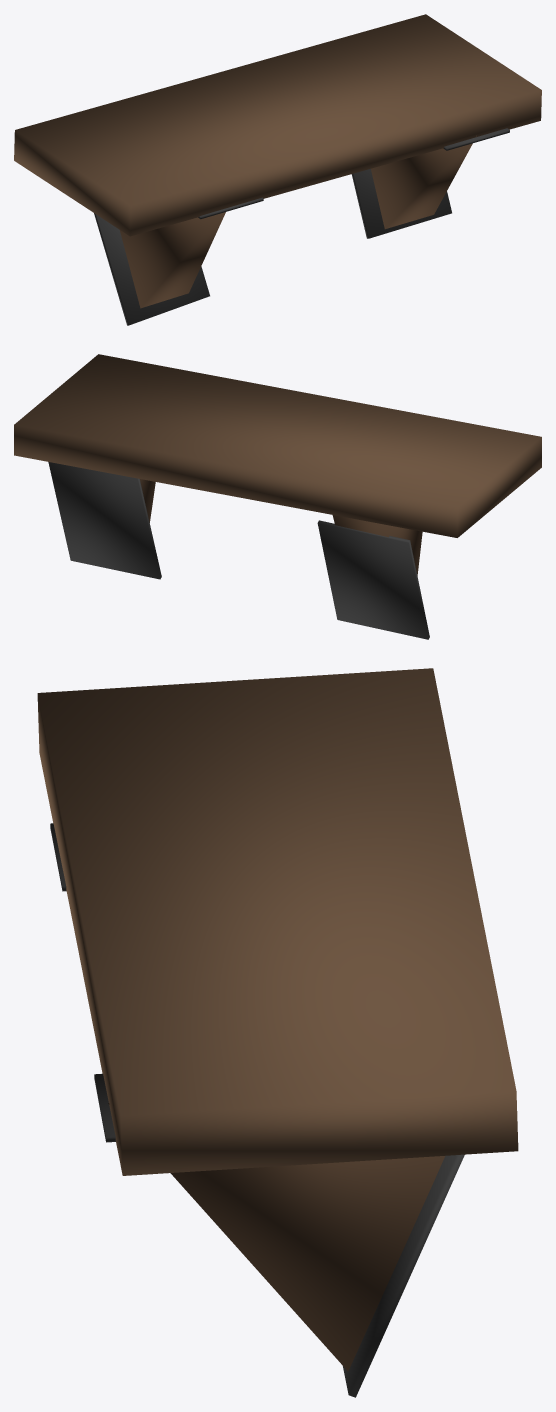
File: myAsset_tilted_shelfxyz.fbx
3 renders of one model, top to bottom at view 1: azimuth 30°, elevation 25°; view 2: azimuth 150°, elevation 25°; view 3: azimuth 270°, elevation 25°, orthographic. The views are drawn at different scales.
Parts seen in each view (by area): view 1: p.0002, p.0006, p.0007, p.0009, p.0011; view 2: p.0002, p.0009, p.0011, p.0006, p.0007; view 3: p.0002, p.0007, p.0011.
Boxes of the visible parts, box(x1,y1,x2,y2) form: p.0002: box(14, 14, 541, 236); p.0006: box(120, 212, 225, 308); p.0007: box(371, 135, 476, 229); p.0009: box(94, 213, 209, 325); p.0011: box(351, 169, 451, 238); p.0002: box(14, 354, 541, 537); p.0009: box(317, 520, 429, 639); p.0011: box(48, 462, 161, 579); p.0006: box(332, 515, 422, 575); p.0007: box(140, 479, 155, 522); p.0002: box(37, 668, 518, 1175); p.0007: box(108, 1103, 444, 1371); p.0011: box(343, 1154, 464, 1397).
Size of the model in its own units: 29.8 by 14.18 by 11.63.
